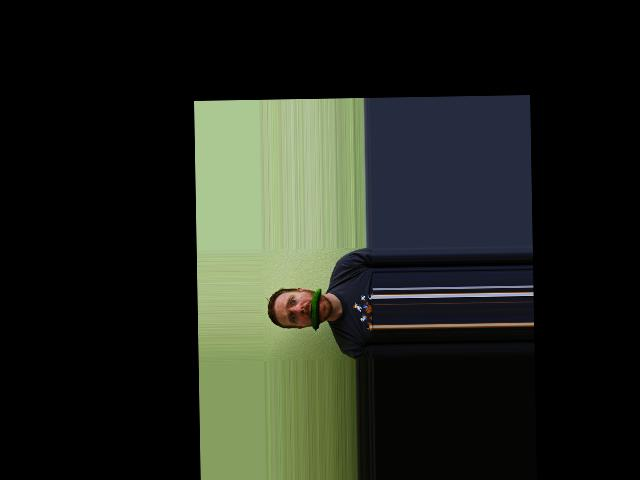cucumber: (311, 288, 322, 331)
